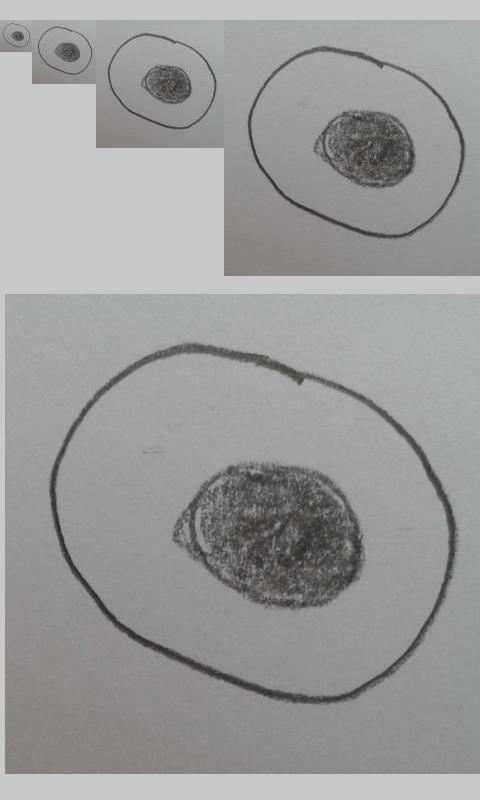radio_button: (48, 341, 459, 706), (248, 45, 466, 240), (107, 32, 217, 130), (37, 25, 94, 76), (2, 22, 31, 48)
